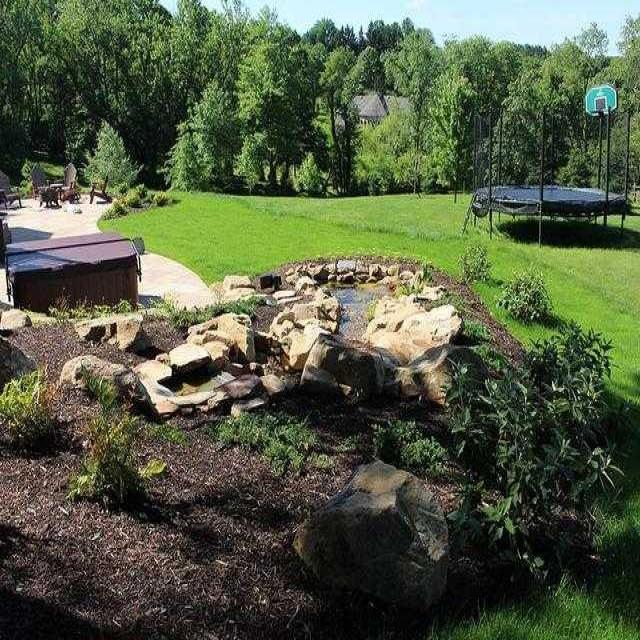Ponds: (282, 256, 467, 409)
